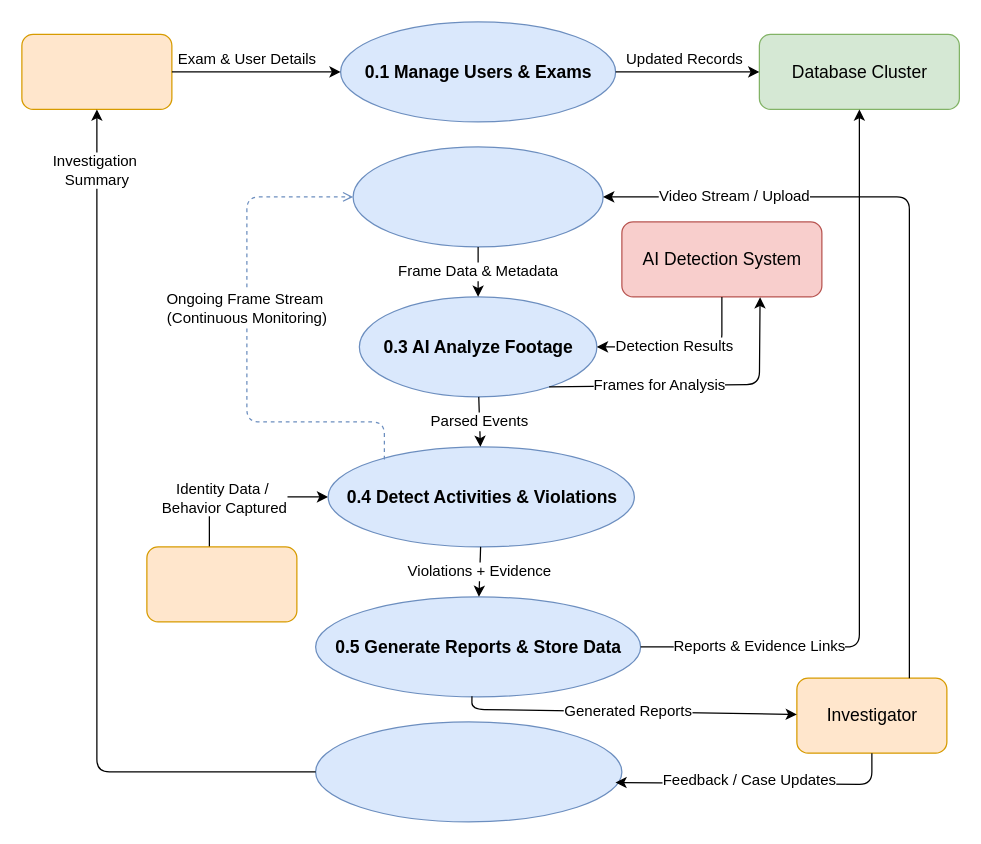
This 981x844 diagram has some shape labels left out. Each missing label, with the centre of its shape:
"0.2 Capture & Ingest Video" goes at point 477,196.
"0.6 Review & Investigate Cases" goes at point 468,771.
"Admin" goes at point 96,71.
"Student" goes at point 221,584.
